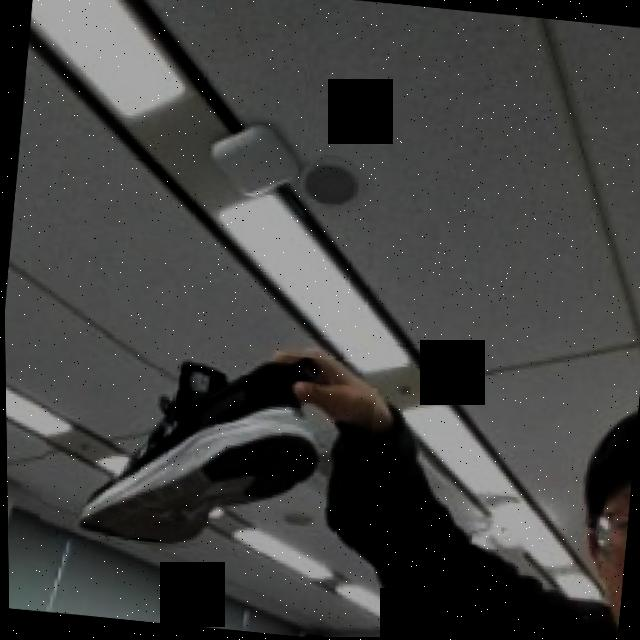shoe: (34, 355, 379, 570)
